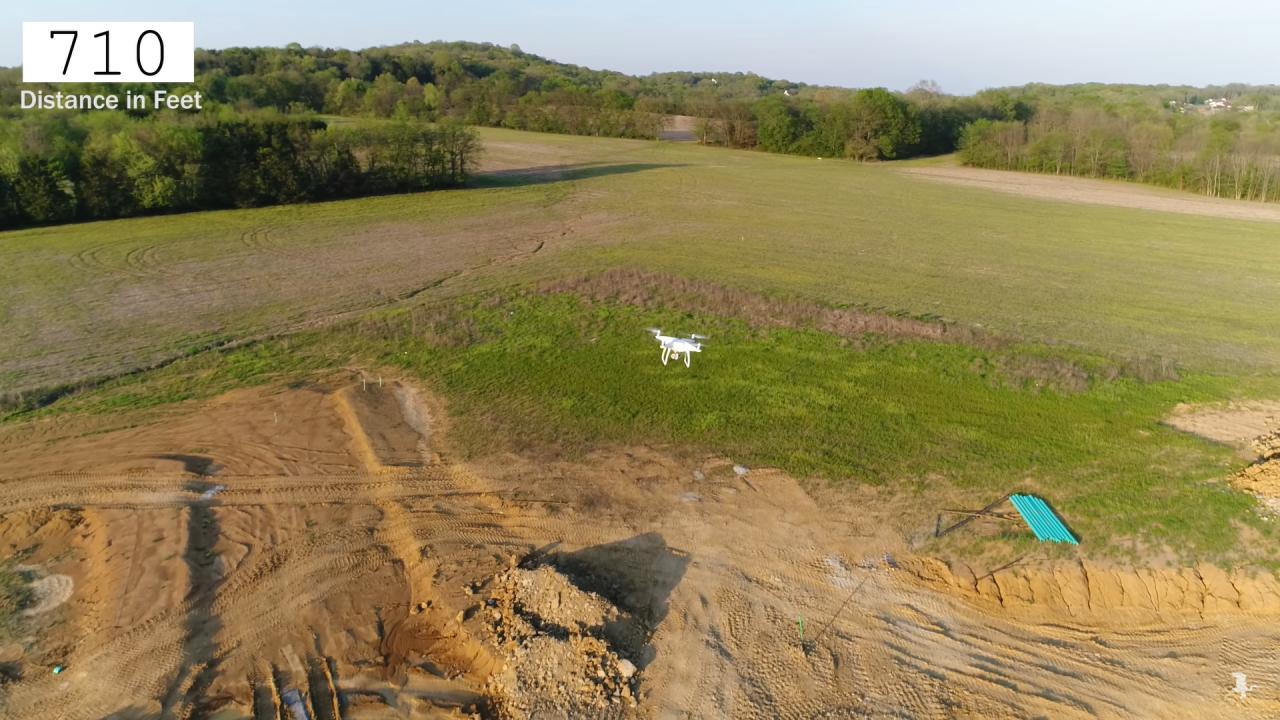Drone: (636, 319, 721, 376)
